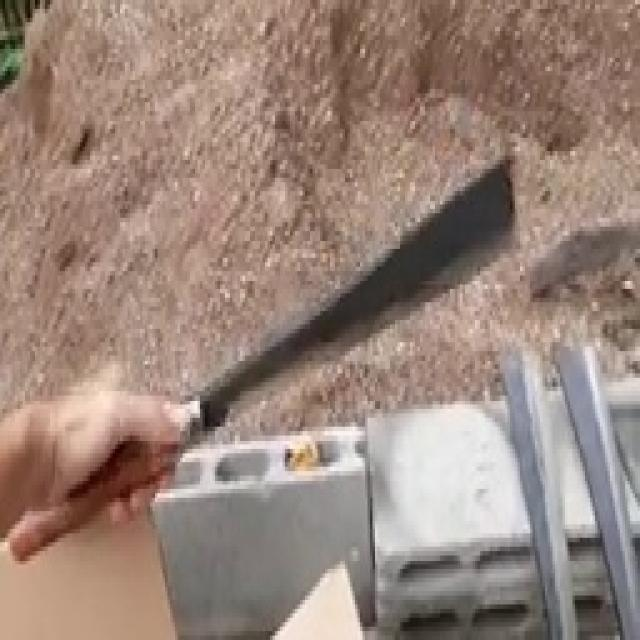eto: (0, 145, 523, 582), (549, 334, 640, 640), (494, 350, 584, 640)
